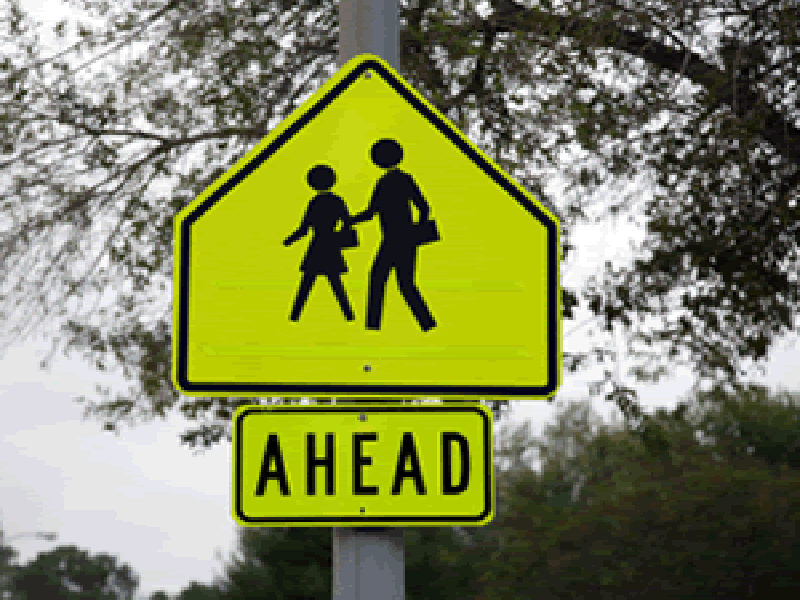slow: (165, 56, 566, 401)
